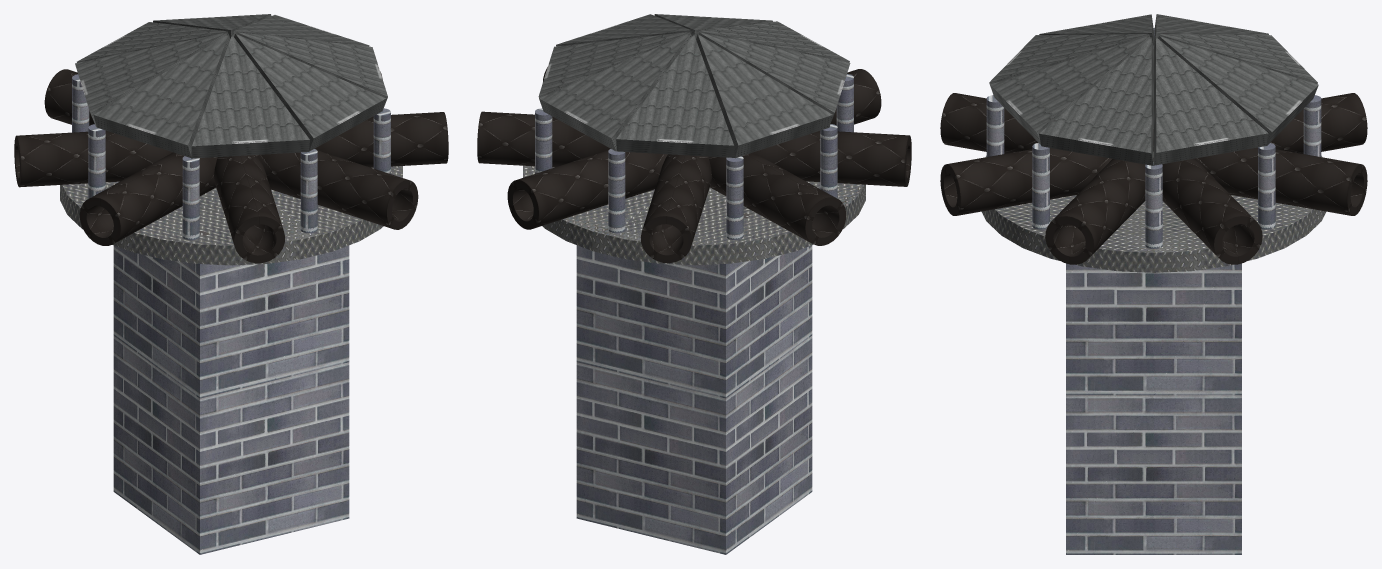
Rendered from Turret.FBX.
The picture shows the model from 3 angles, left to right: view 1: azimuth 30°, elevation 25°; view 2: azimuth 150°, elevation 25°; view 3: azimuth 270°, elevation 25°; orthographic projection. The views are drawn at different scales.
Parts seen in each view (by area): view 1: Body, Cylinder001, Prism001, Prism008, Tube008, Prism003, Tube004, Tube005, Tube003, Tube007, Prism006, Prism004 (+9 smaller); view 2: Body, Cylinder001, Prism007, Prism006, Prism005, Tube002, Tube005, Tube004, Tube001, Tube006, Prism008, Prism002 (+9 smaller); view 3: Body, Cylinder001, Prism004, Prism002, Tube002, Tube008, Tube006, Tube007, Prism005, Prism003, Tube003, Tube001 (+9 smaller).
Boxes of the visible parts, x1,y1,x2,y2 form: Body: (113, 245, 349, 554); Cylinder001: (60, 166, 402, 265); Prism001: (191, 35, 309, 158); Prism008: (93, 34, 230, 157); Tube008: (258, 150, 418, 229); Prism003: (234, 33, 386, 151); Tube004: (79, 152, 217, 245); Tube005: (14, 130, 172, 187); Tube003: (214, 155, 284, 263); Tube007: (314, 112, 448, 167); Prism006: (75, 32, 226, 127); Prism004: (236, 32, 387, 111); Body: (576, 245, 812, 554); Cylinder001: (523, 165, 865, 265); Prism007: (616, 34, 734, 157); Prism006: (696, 34, 832, 158); Prism005: (539, 33, 691, 151); Tube002: (507, 150, 667, 229); Tube005: (708, 152, 846, 245); Tube004: (754, 131, 911, 186); Tube001: (640, 154, 711, 263); Tube006: (477, 111, 610, 167); Prism008: (698, 32, 850, 120); Prism002: (538, 32, 691, 98); Body: (1066, 263, 1241, 554); Cylinder001: (982, 152, 1325, 272); Prism004: (1039, 37, 1153, 165); Prism002: (1154, 37, 1268, 165); Tube002: (1195, 147, 1367, 215); Tube008: (940, 148, 1112, 215); Tube006: (1162, 158, 1262, 264); Tube007: (1045, 158, 1153, 264); Prism005: (1158, 36, 1318, 145); Prism003: (990, 35, 1153, 144); Tube003: (940, 93, 1038, 153); Tube001: (1270, 93, 1367, 153).
Bounding box in the file's own units: 2.42 × 3.02 × 2.42.
Materials: 5 (5 with a texture image).
